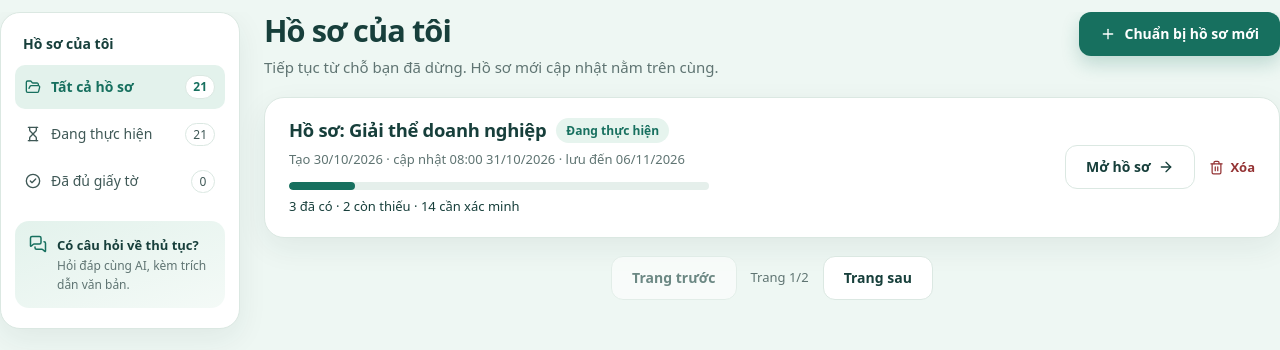
Test: Hồ sơ của tôi › phân trang khi có nhiều hơn một trang hồ sơ
The image size is (1280, 350).
Expected: the text "Trang 1/2" is shown, [750, 267, 809, 288]
Click the button "Trang sau" at coordinates (878, 278), box [823, 256, 933, 300]
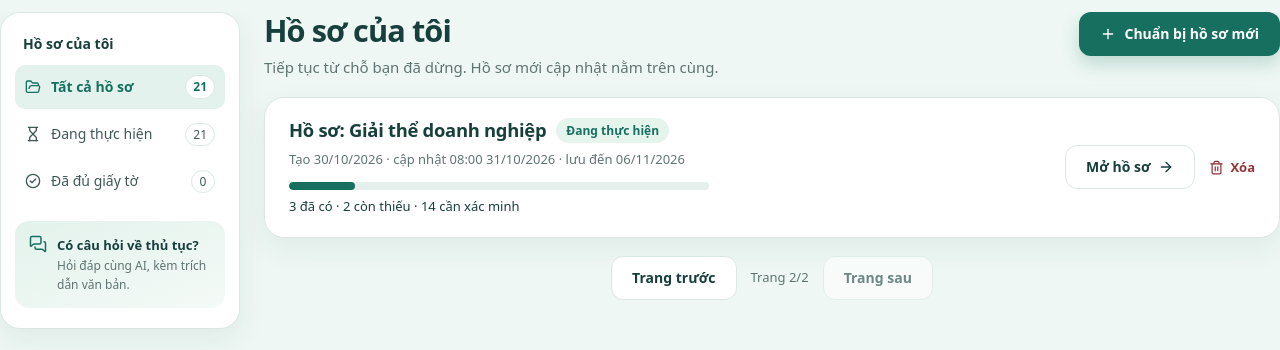
Result: the text "Trang 2/2" is shown at [750, 267, 809, 288]
